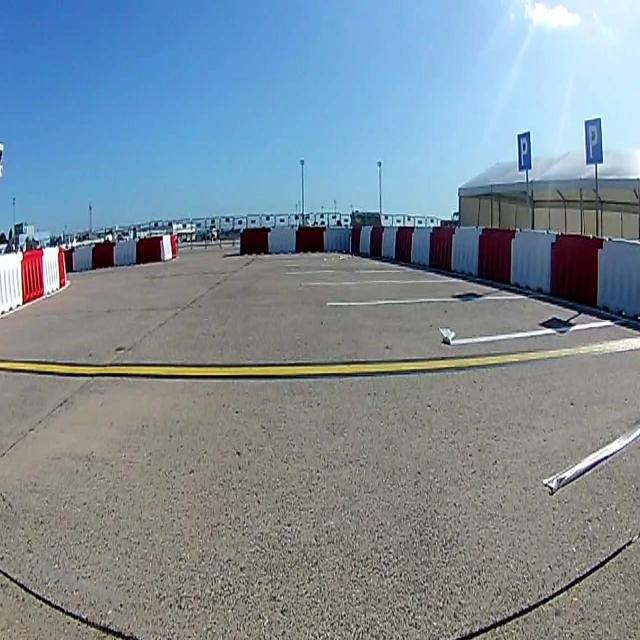park: (584, 118, 604, 164), (515, 132, 532, 172)
